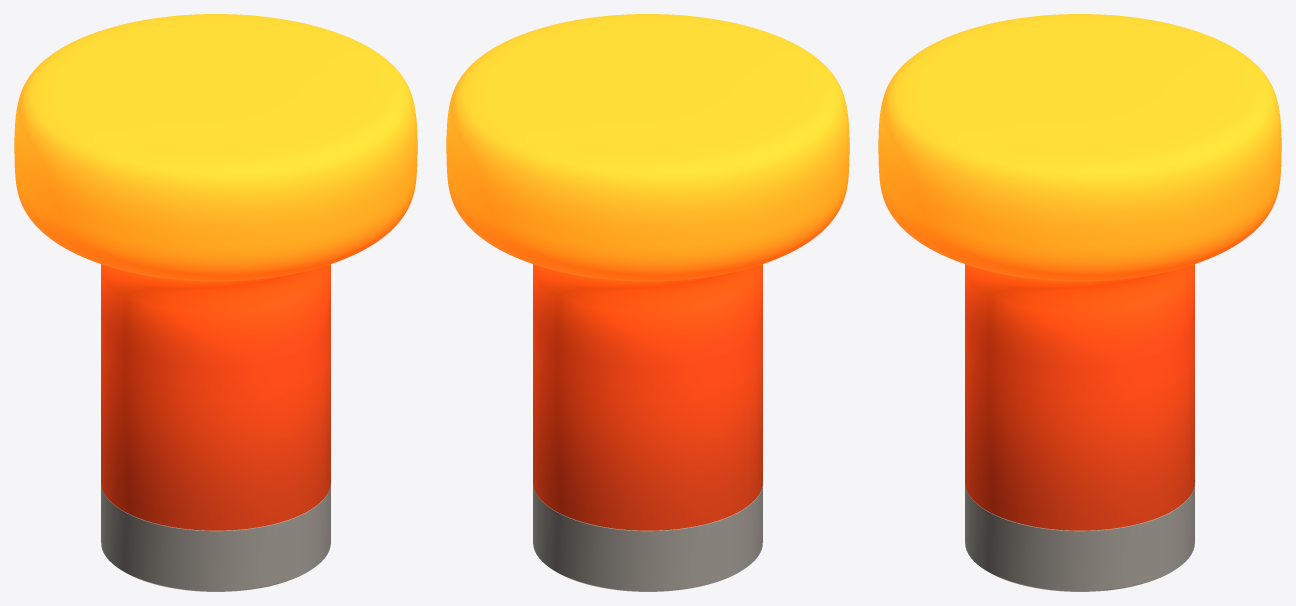
File: amber.glb
3 renders of one model, left to right at view 1: azimuth 30°, elevation 25°; view 2: azimuth 150°, elevation 25°; view 3: azimuth 270°, elevation 25°, orthographic.
Visible parts, largest first — view 1: Amber opal shade, Satin metal base; view 2: Amber opal shade, Satin metal base; view 3: Amber opal shade, Satin metal base.
Part boxes in pixels (<box>): Amber opal shade: <box>14,14,417,530</box>; Satin metal base: <box>101,483,330,591</box>; Amber opal shade: <box>446,14,849,530</box>; Satin metal base: <box>533,482,762,591</box>; Amber opal shade: <box>878,14,1281,530</box>; Satin metal base: <box>965,483,1194,591</box>.
Bounding box in the file's own units: 0.2 × 0.25 × 0.2.
